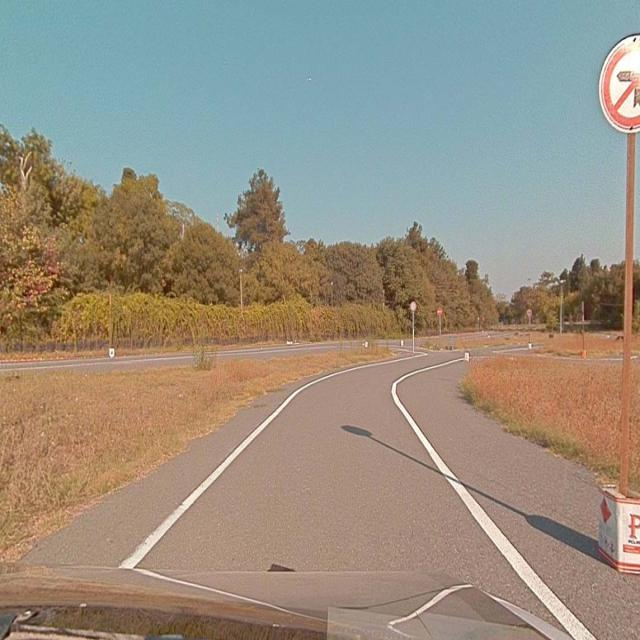soladonulmez: (602, 38, 639, 128)
